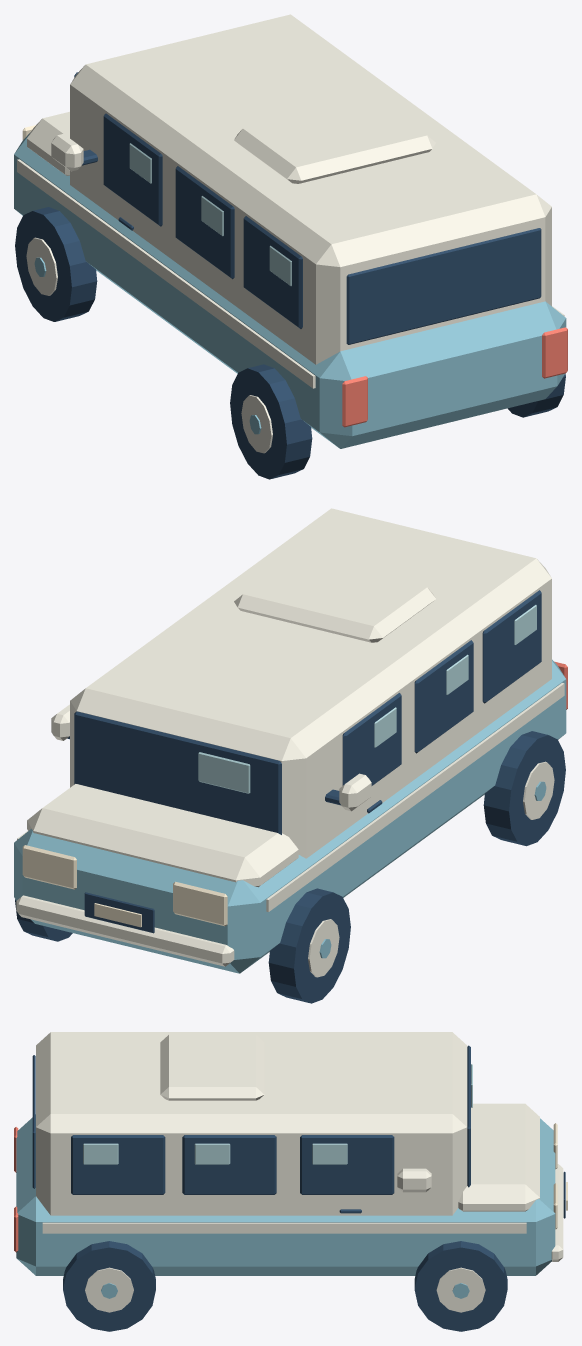
File: urban-details.glb
The picture shows the model from 3 angles, top to bottom: view 1: azimuth 30°, elevation 25°; view 2: azimuth 150°, elevation 25°; view 3: azimuth 270°, elevation 25°; orthographic projection. The views are drawn at different scales.
Parts seen in each view (by area): view 1: Sora_Urban_Vehicle_Surface; view 2: Sora_Urban_Vehicle_Surface; view 3: Sora_Urban_Vehicle_Surface.
Boxes of the visible parts, x1,y1,x2,y2 form: Sora_Urban_Vehicle_Surface: (14, 14, 567, 479); Sora_Urban_Vehicle_Surface: (14, 508, 567, 1003); Sora_Urban_Vehicle_Surface: (14, 1032, 567, 1331).
Bounding box in the file's own units: 2.36 × 1.94 × 4.52.
